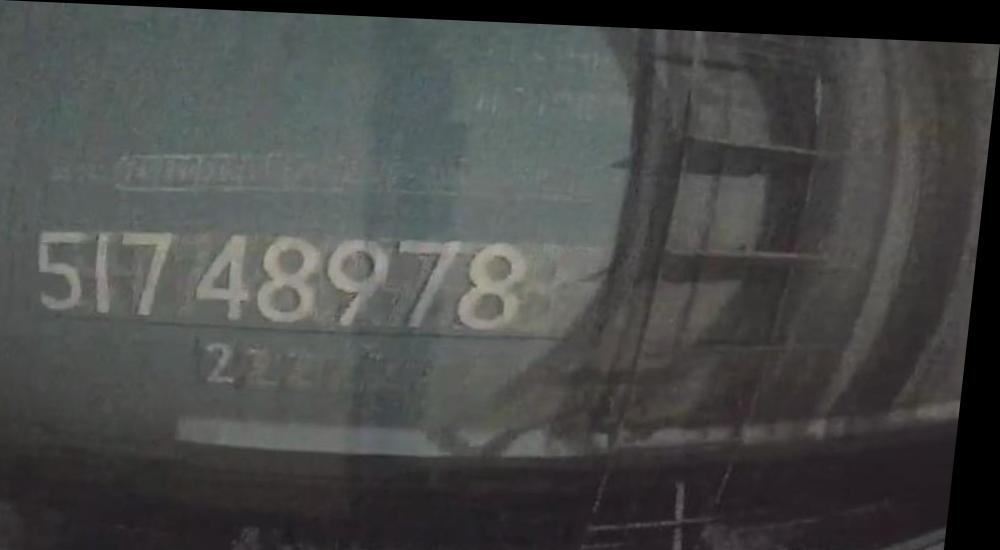Wagon-number: (27, 218, 541, 339)
